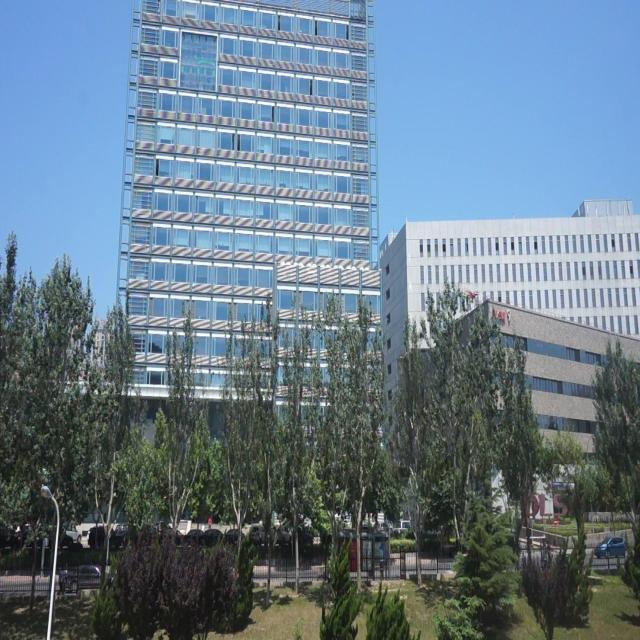drone: (466, 286, 480, 303)
